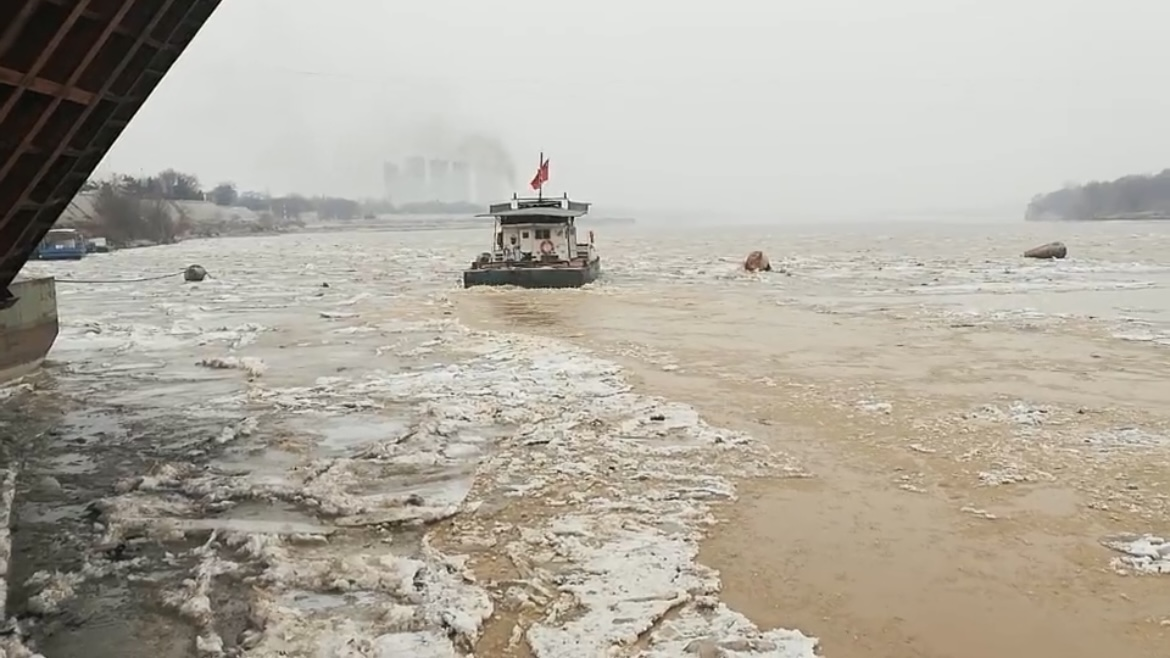otherboat: (461, 166, 605, 292)
